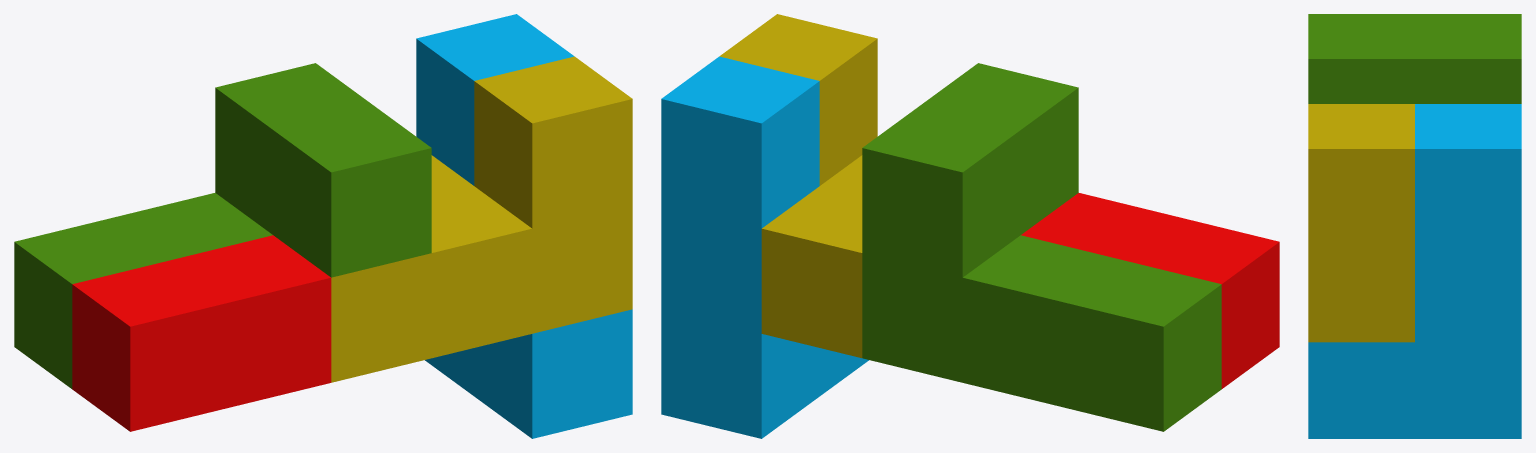
3 views of the same model, side by side, from view 1: azimuth 30°, elevation 25°; view 2: azimuth 150°, elevation 25°; view 3: azimuth 270°, elevation 25° (orthographic). The views are drawn at different scales.
Visible parts, largest first — view 1: mergedBlocks(Clone); view 2: mergedBlocks(Clone); view 3: mergedBlocks(Clone).
Boxes of the visible parts, x1,y1,x2,y2 form: mergedBlocks(Clone): (14, 14, 632, 438); mergedBlocks(Clone): (661, 14, 1279, 438); mergedBlocks(Clone): (1308, 14, 1521, 438).
Size of the model in its own units: 5 by 3 by 2.
4 materials, 4 textured.
